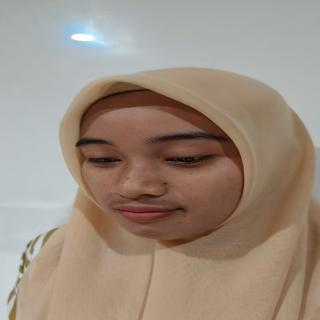Sedih: (65, 96, 251, 251)
